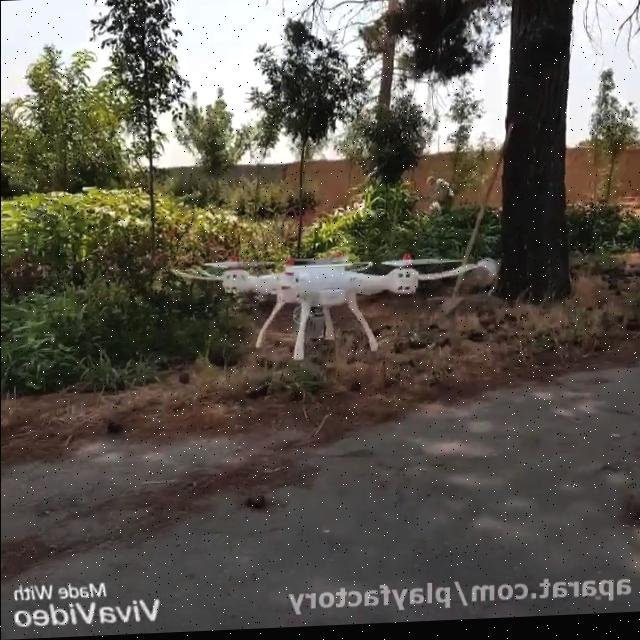drone: (169, 243, 479, 367)
